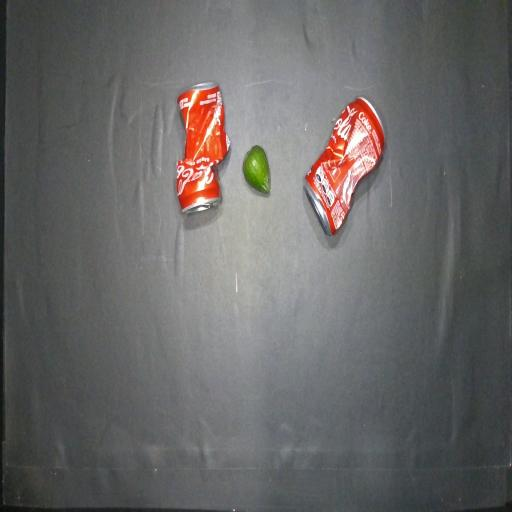higo: (243, 145, 270, 193)
lata_defectuoso: (305, 98, 385, 235), (177, 82, 230, 213)
